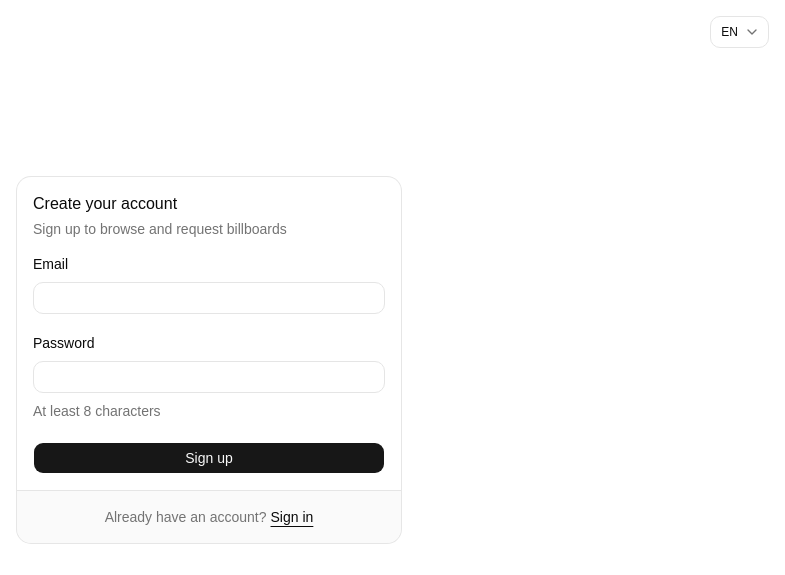
SignUpPage › shows the server error inline, next to the field, when the email is taken
Step 1. Type "user@example.com" into the field labelled "Email" → (209, 298), box x1=33 y1=282 x2=385 y2=314
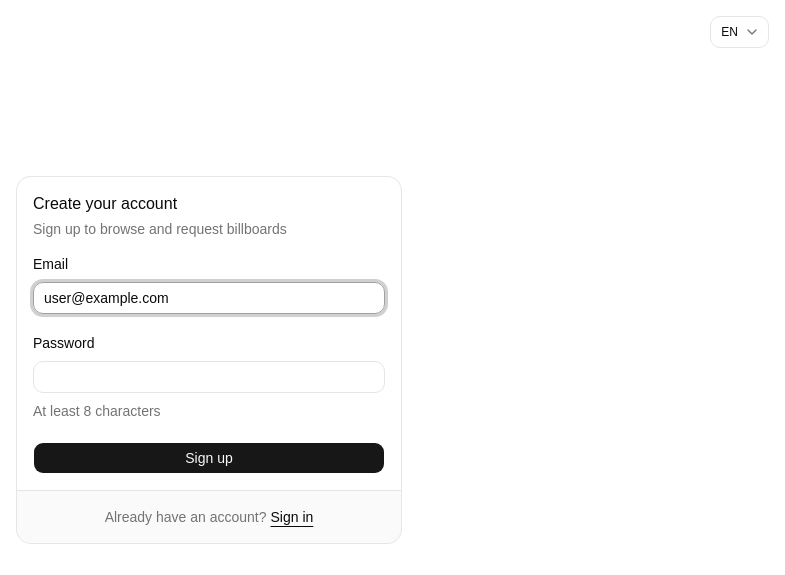
Step 2. Type "correct-horse" into the password field labelled "Password" → (209, 377), box x1=33 y1=361 x2=385 y2=393
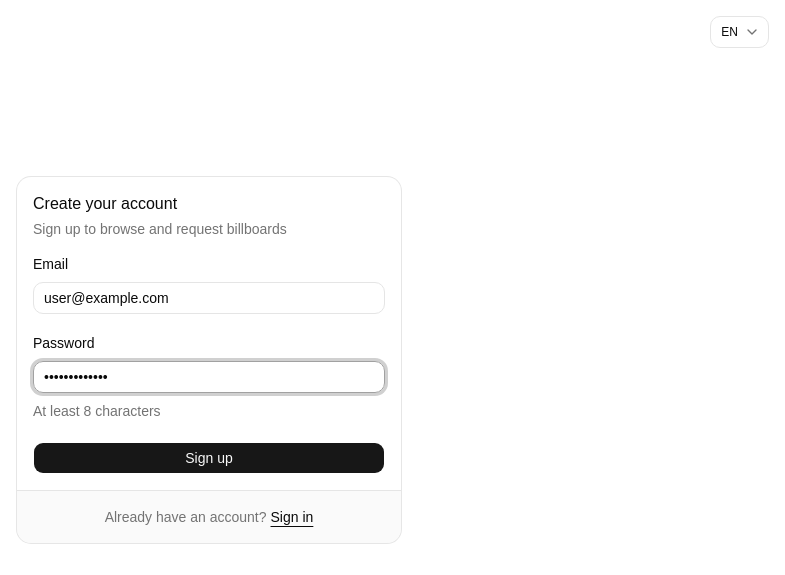
Step 3. Click the button "Sign up" → (209, 458), box x1=33 y1=442 x2=385 y2=474
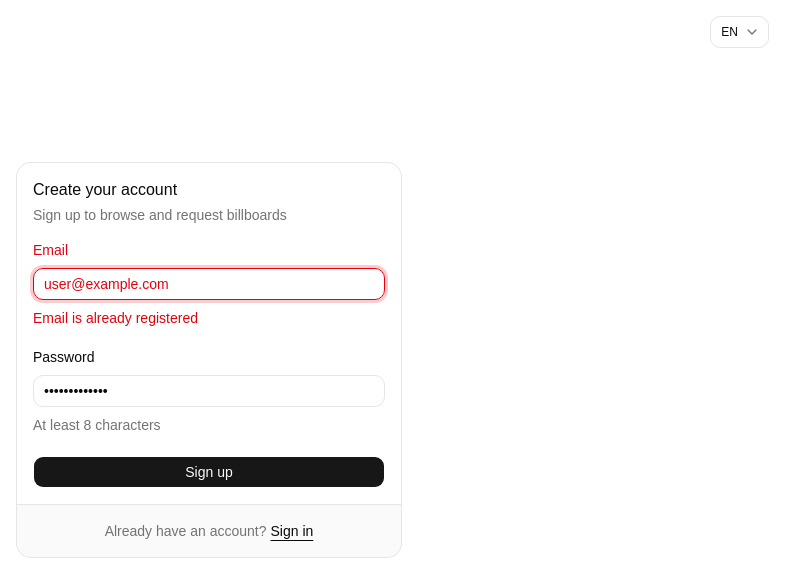
Check: the button "Sign up" is enabled, box x1=33 y1=456 x2=385 y2=488
Check: the text "Email is already registered" is shown once, box x1=33 y1=310 x2=198 y2=326
